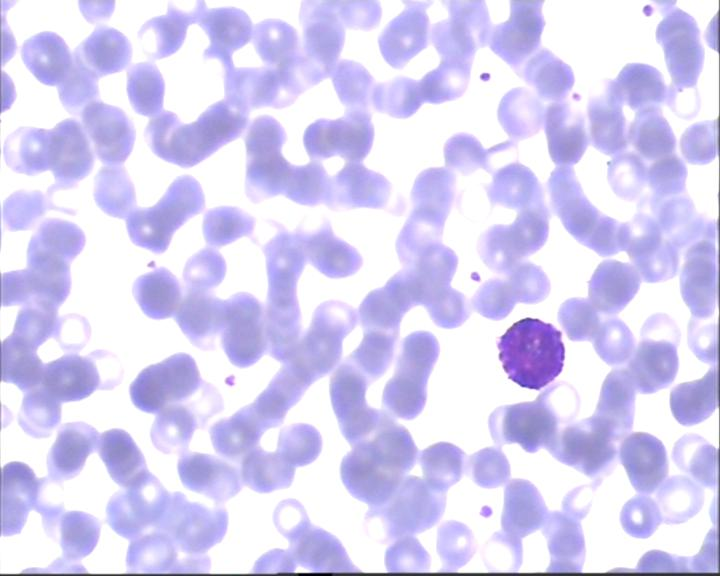baso: (488, 315, 569, 394)
